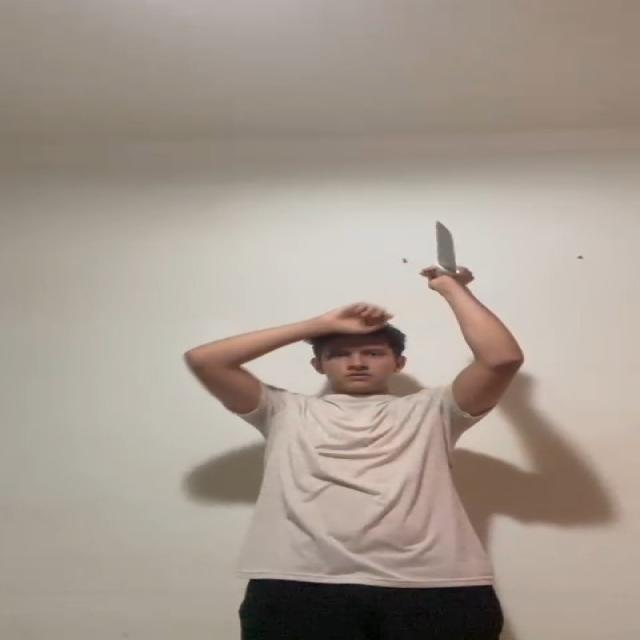knife: (431, 220, 460, 276)
